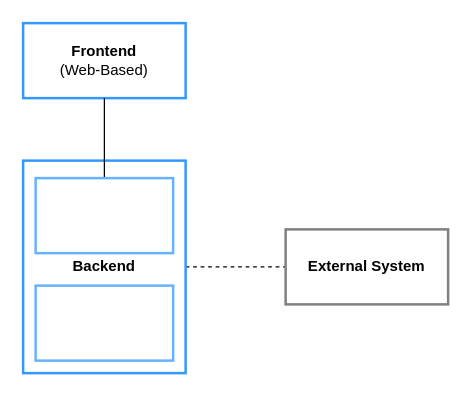
Image size: 470x395. Some labels were removed from this diagram. Each missing label, with the centre of its shape:
Application Layer: point (104, 215)
Persistence Layer (DB-based): point (104, 322)
